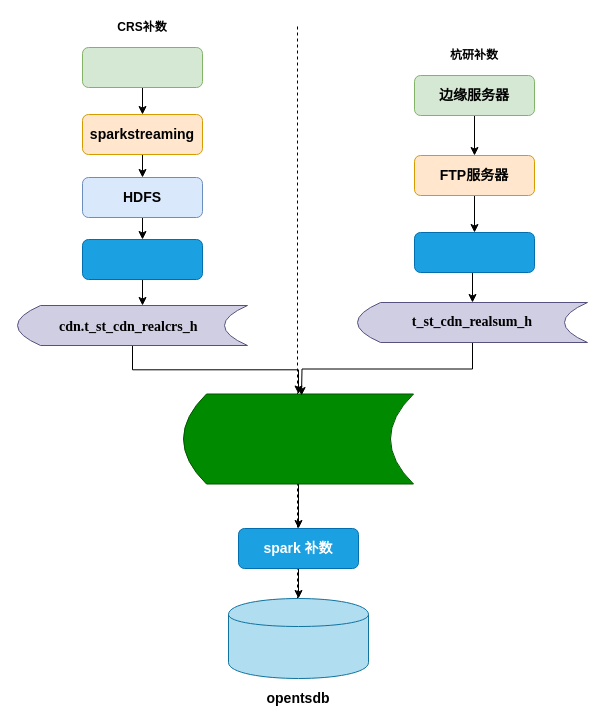
This 605x725 diagram has some shape labels left out. Each missing label, with the centre of its shape:
cdn.t_st_cdn_realindex_min cdn.t_st_cdn_realindex_h cdn.t_st_cdn_realindex_d: point 298,438
HIVE 离线任务: point 142,259
hive离线任务: point 474,252
kafka: point 142,67
